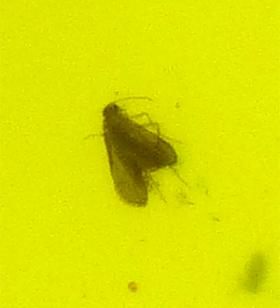Trichoptera: (100, 100, 180, 208)
